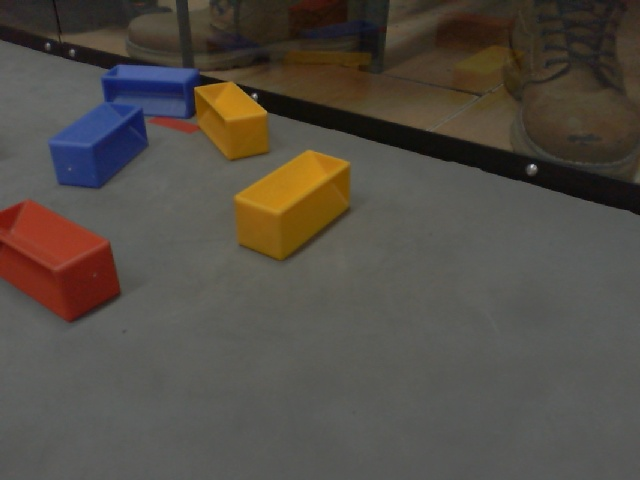BlueSample: (49, 102, 151, 191), (99, 61, 203, 122)
RedSample: (1, 196, 123, 322)
YellowSample: (229, 147, 360, 262), (189, 79, 277, 161)
